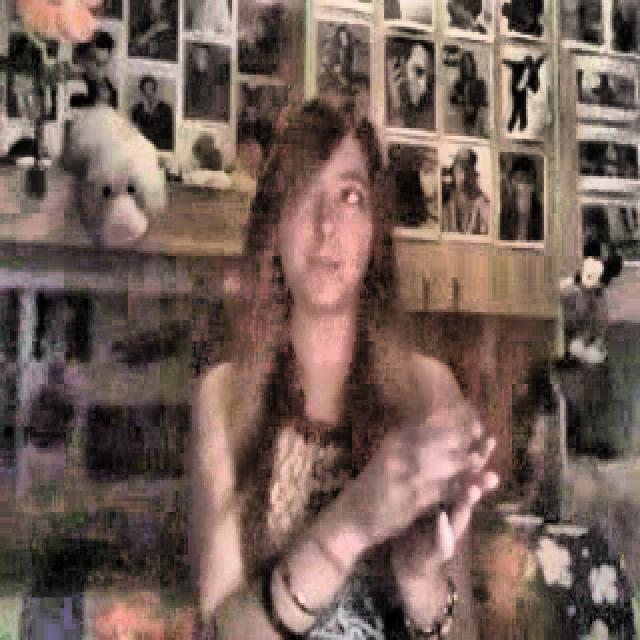F: (213, 117, 468, 640)
